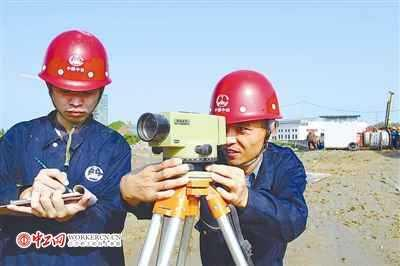helmet: (33, 18, 121, 129), (211, 59, 291, 170)
